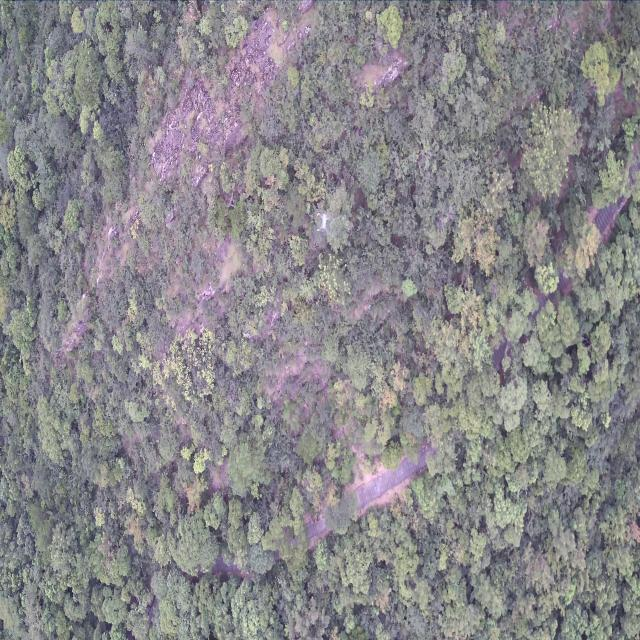UAV: (316, 210, 331, 234)
